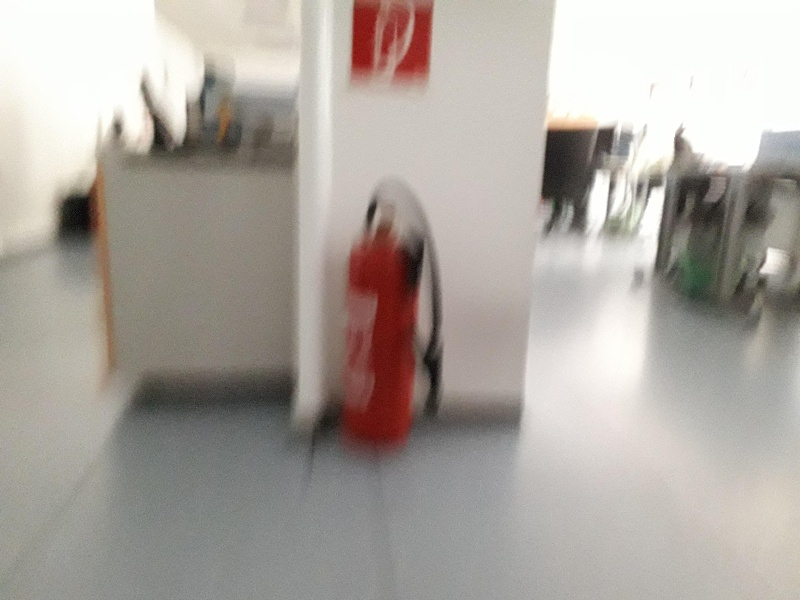vataparat: (341, 177, 441, 453)
